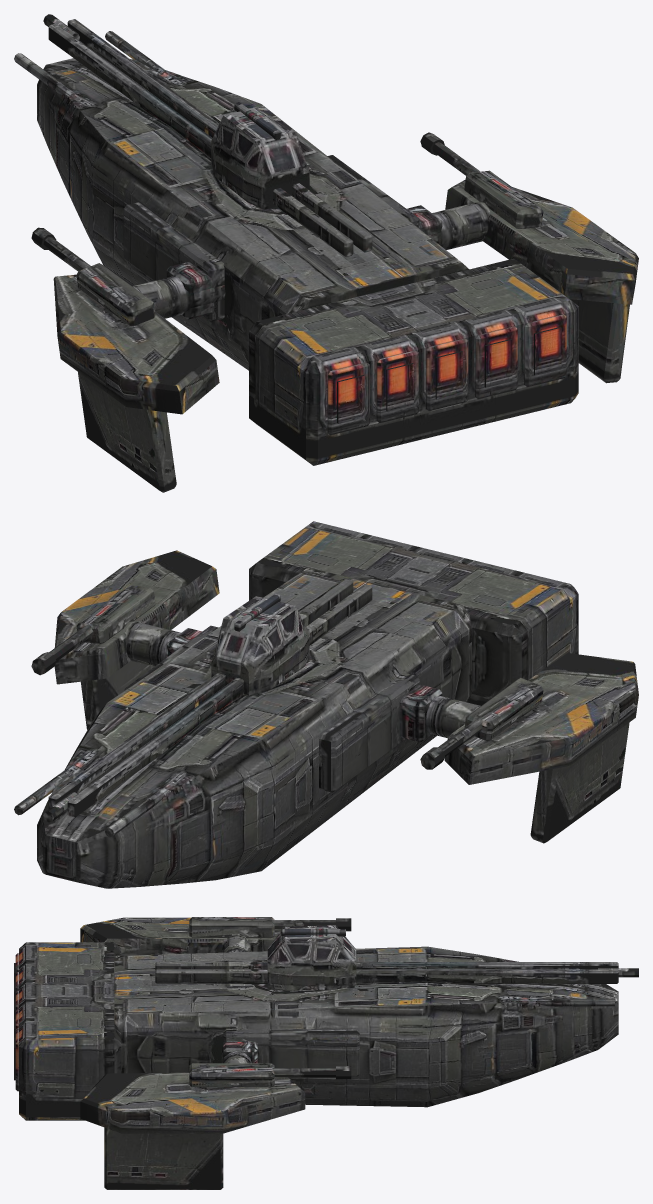
The model's file is ironclad-e.glb.
3 renders of one model, top to bottom at view 1: azimuth 30°, elevation 25°; view 2: azimuth 150°, elevation 25°; view 3: azimuth 270°, elevation 25°, orthographic. The views are drawn at different scales.
Parts seen in each view (by area): view 1: hero_ironclad_hull_e, hero_ironclad_engines_e, hero_ironclad_wings_e, hero_ironclad_cockpit_e; view 2: hero_ironclad_hull_e, hero_ironclad_wings_e, hero_ironclad_engines_e, hero_ironclad_cockpit_e; view 3: hero_ironclad_hull_e, hero_ironclad_wings_e, hero_ironclad_engines_e, hero_ironclad_cockpit_e.
Part boxes in pixels (box(x1,y1,x2,y2)): hero_ironclad_hull_e: box(14, 14, 468, 370); hero_ironclad_engines_e: box(249, 258, 578, 465); hero_ironclad_wings_e: box(31, 132, 638, 492); hero_ironclad_cockpit_e: box(211, 102, 309, 209); hero_ironclad_hull_e: box(14, 567, 471, 888); hero_ironclad_wings_e: box(31, 550, 638, 843); hero_ironclad_engines_e: box(249, 521, 578, 705); hero_ironclad_cockpit_e: box(211, 593, 309, 695); hero_ironclad_hull_e: box(114, 946, 638, 1107); hero_ironclad_wings_e: box(80, 917, 351, 1189); hero_ironclad_engines_e: box(14, 942, 121, 1120); hero_ironclad_cockpit_e: box(267, 925, 356, 990).
Size of the model in its own units: 1.36 by 0.5635 by 1.84.
1 material, 1 textured.
